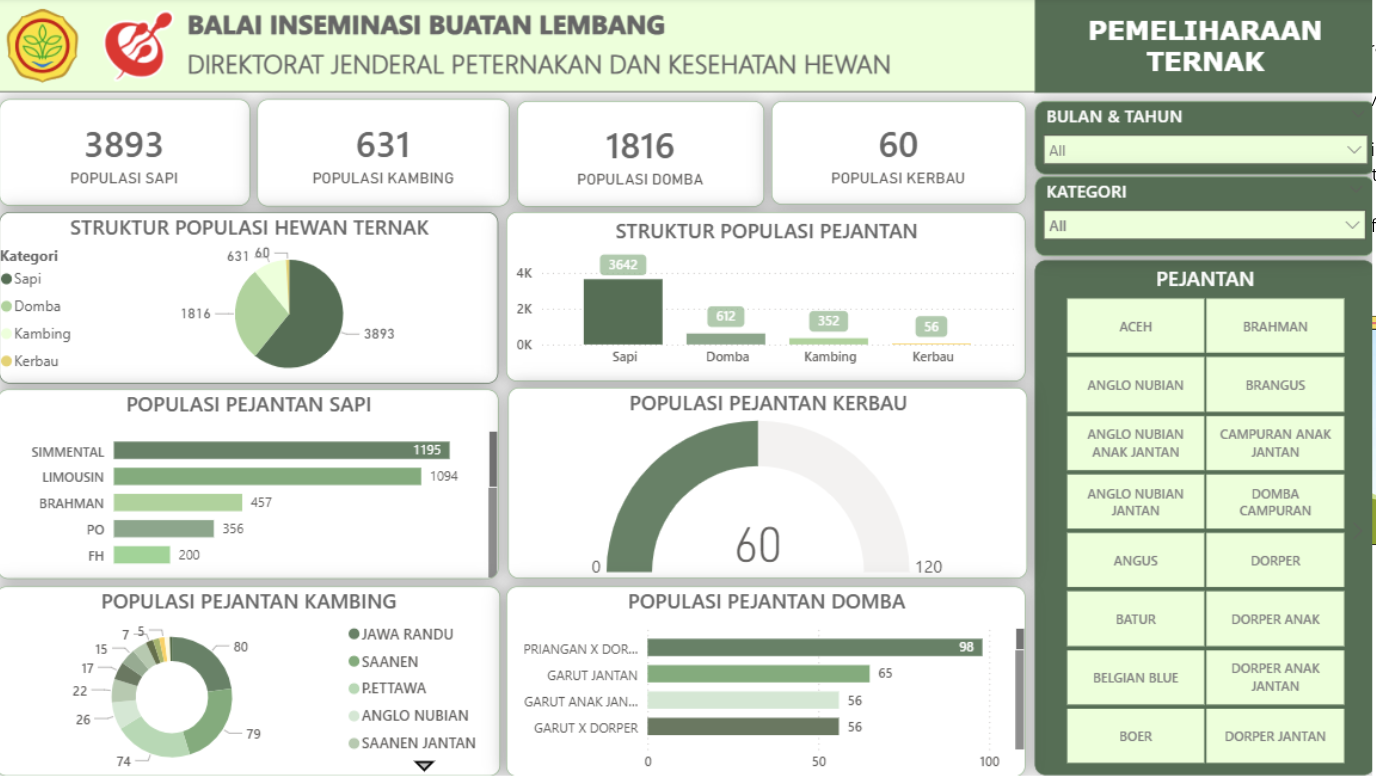

The dashboard page shown, as its layout file describes it:
{"tool":"powerbi","page":{"name":"Dashboard Pemeliharaan Hewan Ternak","canvas":[1280,720],"ordinal":1},"visuals":[{"type":"card","fields":{"Values":["Sum(fakta_struktur_populasi.Populasi Akhir)"]},"box":[5,95,231.7,98.3],"z":0},{"type":"slicer","fields":{"Values":["fakta_struktur_populasi.Tahun.Variation.Date Hierarchy.Year","fakta_struktur_populasi.Tahun.Variation.Date Hierarchy.Month"]},"box":[961.9,96.4,315.6,68],"z":1000},{"type":"card","fields":{"Values":["Sum(fakta_struktur_populasi.Populasi Akhir)"]},"box":[243.5,94.4,233.6,99.4],"z":2000},{"type":"card","fields":{"Values":["Sum(fakta_struktur_populasi.Populasi Akhir)"]},"box":[483.7,96.1,228.6,97.7],"z":3000},{"type":"card","fields":{"Values":["Sum(fakta_struktur_populasi.Populasi Akhir)"]},"box":[718.9,96.1,235.2,96.1],"z":4000},{"type":"pieChart","title":"STRUKTUR POPULASI HEWAN TERNAK","fields":{"Y":["Sum(fakta_struktur_populasi.Populasi Akhir)"],"Category":["fakta_struktur_populasi.Kategori"]},"box":[5.7,198.4,461.1,158.7],"z":5000},{"type":"clusteredBarChart","title":"POPULASI PEJANTAN SAPI","fields":{"Category":["fakta_struktur_populasi.Jenis"],"Y":["Sum(fakta_struktur_populasi.Populasi Akhir)"]},"box":[3.3,363.3,463.3,175],"z":6000},{"type":"lineStackedColumnComboChart","title":"STRUKTUR POPULASI PEJANTAN","fields":{"Category":["fakta_struktur_populasi.Kategori"],"Y":["Sum(fakta_struktur_populasi.Populasi Akhir)"]},"box":[474.3,198.4,480,156.9],"z":7000},{"type":"slicer","title":"PEJANTAN","fields":{"Values":["fakta_struktur_populasi.Jenis"]},"box":[961.9,243.8,313.7,476.2],"z":8000},{"type":"slicer","fields":{"Values":["fakta_struktur_populasi.Kategori"]},"box":[961.9,166.3,313.7,73.7],"z":9000},{"type":"donutChart","title":"POPULASI PEJANTAN KAMBING","fields":{"Category":["fakta_struktur_populasi.Jenis"],"Y":["Sum(fakta_struktur_populasi.Populasi Akhir)"]},"box":[1.7,545,466.7,175],"z":10000},{"type":"gauge","title":"POPULASI PEJANTAN KERBAU","fields":{"Y":["Sum(fakta_struktur_populasi.Populasi Akhir)"]},"box":[475,361.7,480,176.7],"z":11000},{"type":"clusteredBarChart","title":"POPULASI PEJANTAN DOMBA","fields":{"Category":["fakta_struktur_populasi.Jenis"],"Y":["Sum(fakta_struktur_populasi.Populasi Akhir)"]},"box":[474.3,544.3,480,175.7],"z":12000},{"type":"shape","box":[2,0,1278,88],"z":13000},{"type":"image","box":[86.9,0,92.6,86.9],"z":14000},{"type":"textbox","box":[179.5,7.6,480,35.9],"z":15000},{"type":"image","box":[0,0,86.1,86.1],"z":16000},{"type":"textbox","box":[178.9,44.7,816.6,43.1],"z":17000},{"type":"textbox","box":[961.7,0,315,88.3],"z":18000}]}

Visuals, with their boxes in screenshot pixels (x1, y1, x2, y2), scaled from the page's 1280x720 canvas onto the 1376x778 screenshot:
card - Sum(fakta_struktur_populasi.Populasi Akhir): 5/103/254/209
slicer - fakta_struktur_populasi.Tahun.Variation.Date Hierarchy.Year x fakta_struktur_populasi.Tahun.Variation.Date Hierarchy.Month: 1034/104/1373/178
card - Sum(fakta_struktur_populasi.Populasi Akhir): 262/102/513/209
card - Sum(fakta_struktur_populasi.Populasi Akhir): 520/104/766/209
card - Sum(fakta_struktur_populasi.Populasi Akhir): 773/104/1026/208
"STRUKTUR POPULASI HEWAN TERNAK" pieChart: 6/214/502/386
"POPULASI PEJANTAN SAPI" clusteredBarChart: 4/393/502/582
"STRUKTUR POPULASI PEJANTAN" lineStackedColumnComboChart: 510/214/1026/384
"PEJANTAN" slicer: 1034/263/1371/777
slicer - fakta_struktur_populasi.Kategori: 1034/180/1371/259
"POPULASI PEJANTAN KAMBING" donutChart: 2/589/504/777
"POPULASI PEJANTAN KERBAU" gauge: 511/391/1027/582
"POPULASI PEJANTAN DOMBA" clusteredBarChart: 510/588/1026/777
shape: 2/0/1375/95
image: 93/0/193/94
textbox: 193/8/709/47
image: 0/0/93/93
textbox: 192/48/1070/95
textbox: 1034/0/1372/95
